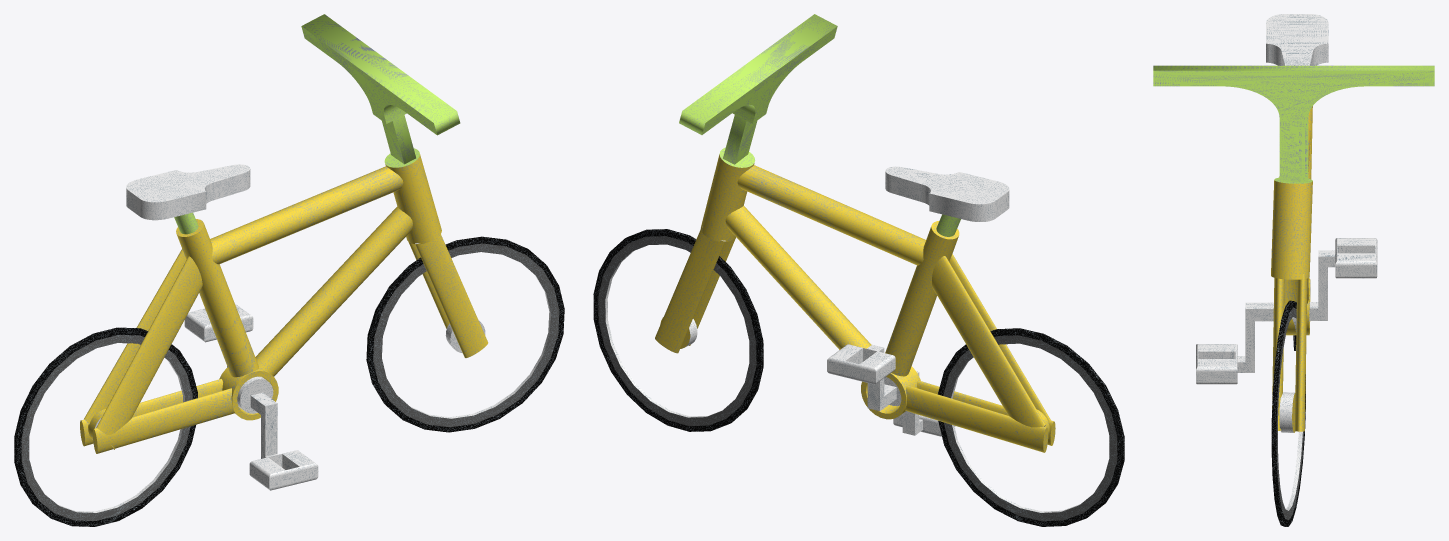
The model's file is Bicycle.dae.
3 renders of one model, left to right at view 1: azimuth 30°, elevation 25°; view 2: azimuth 150°, elevation 25°; view 3: azimuth 270°, elevation 25°, orthographic. The views are drawn at different scales.
Visible parts, largest first — view 1: SketchUp (×19); view 2: SketchUp (×20); view 3: SketchUp (×12).
Boxes of the visible parts, box(x1,y1,x2,y2) form: SketchUp (×19): box(14, 14, 564, 526); SketchUp (×20): box(593, 14, 1124, 526); SketchUp (×12): box(1153, 14, 1434, 526).
Size of the model in its own units: 450 by 191 by 312.
